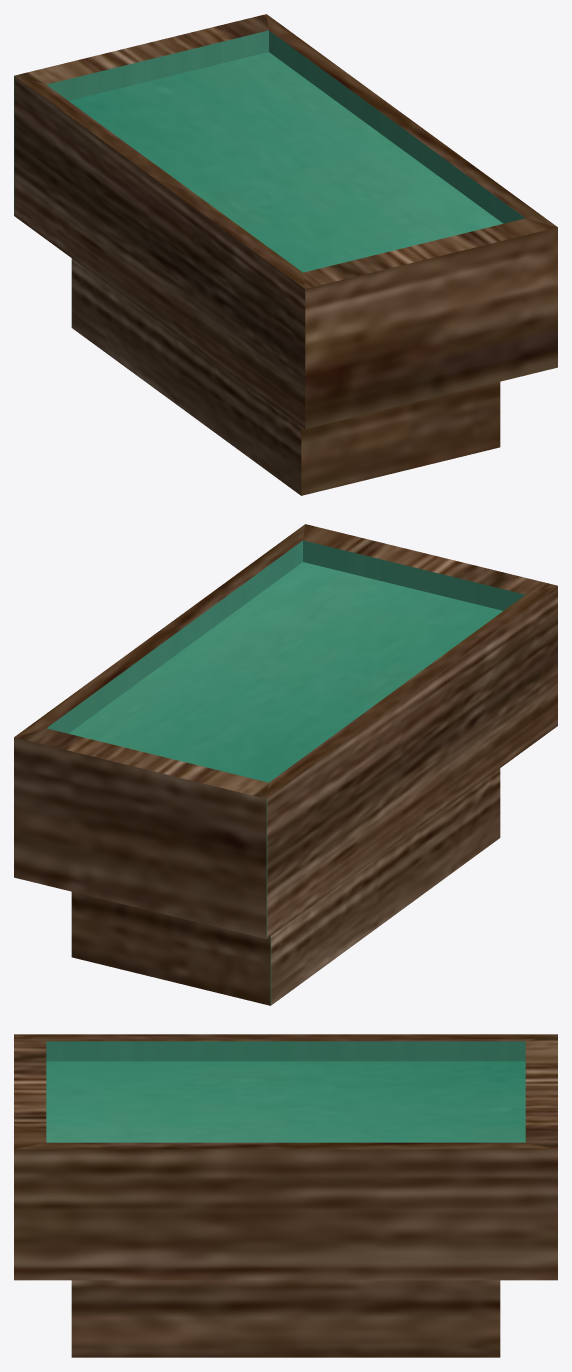
The model's file is billiard table.fbx.
3 views of the same model, one above another, from view 1: azimuth 30°, elevation 25°; view 2: azimuth 150°, elevation 25°; view 3: azimuth 270°, elevation 25° (orthographic). The views are drawn at different scales.
Visible parts, largest first — view 1: Cube; view 2: Cube; view 3: Cube.
Part boxes in pixels (x1,y1,x2,y2): Cube: (14, 14, 557, 495); Cube: (14, 524, 557, 1005); Cube: (14, 1034, 557, 1357).
Size of the model in its own units: 235 by 210 by 469.
